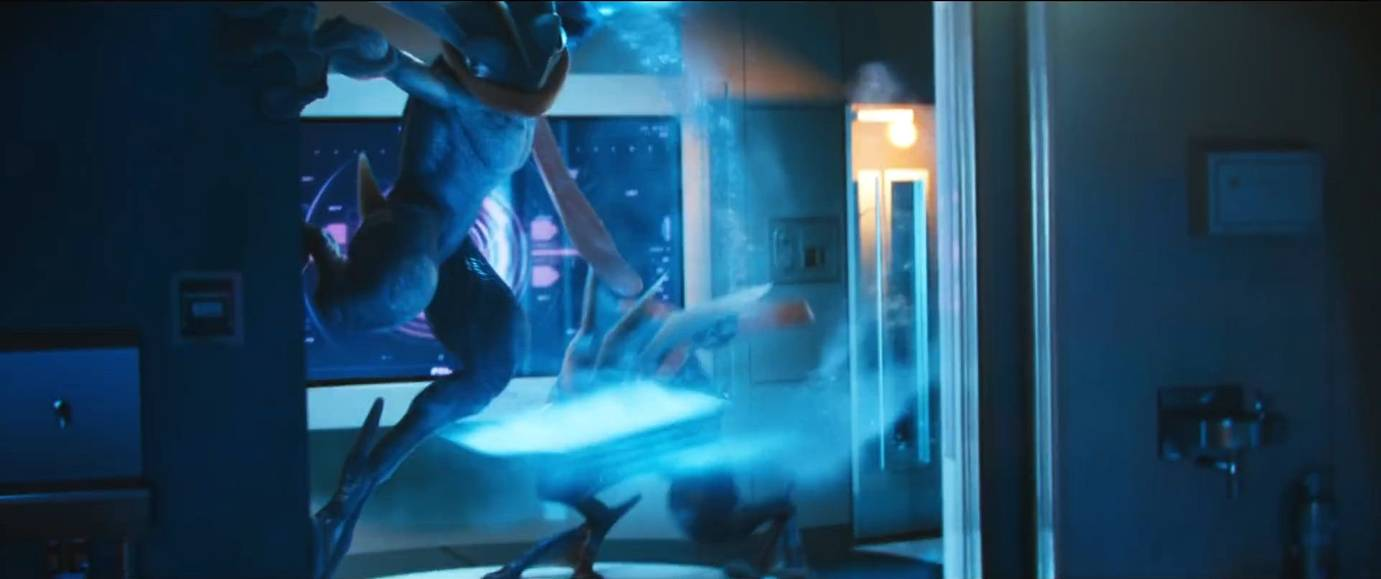greninja: (184, 7, 658, 565), (477, 244, 837, 579)
